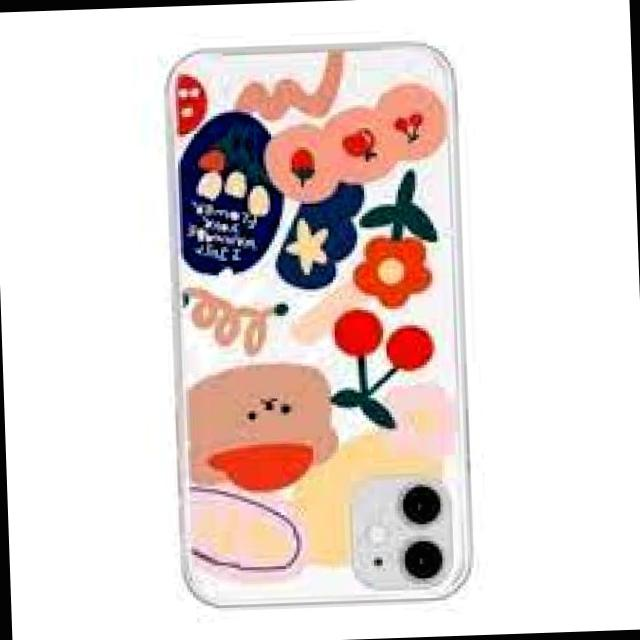lens_back: (397, 535, 446, 583), (395, 480, 442, 528)
phone: (160, 41, 480, 608)
